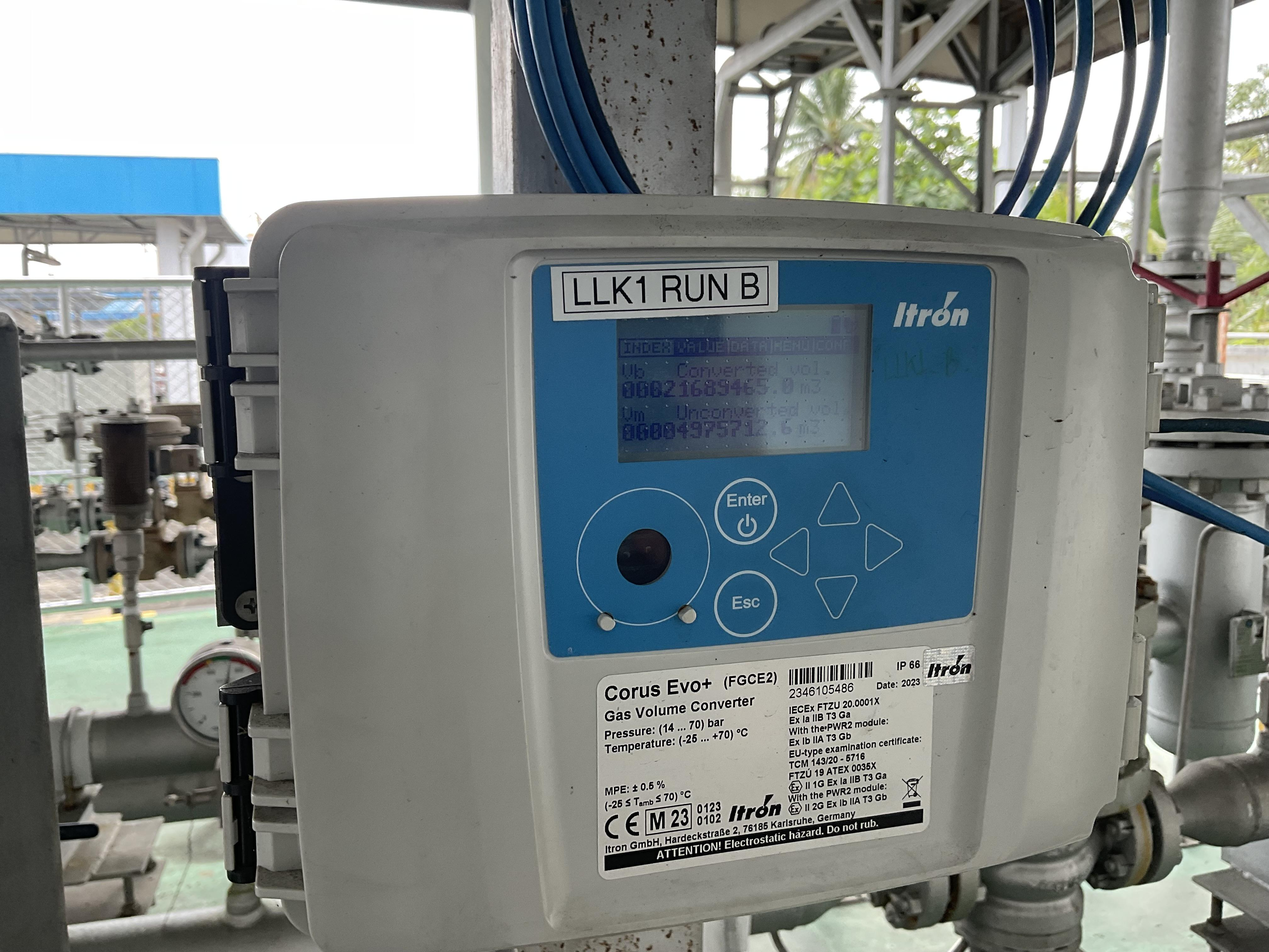digital_screen: (615, 304, 877, 463)
